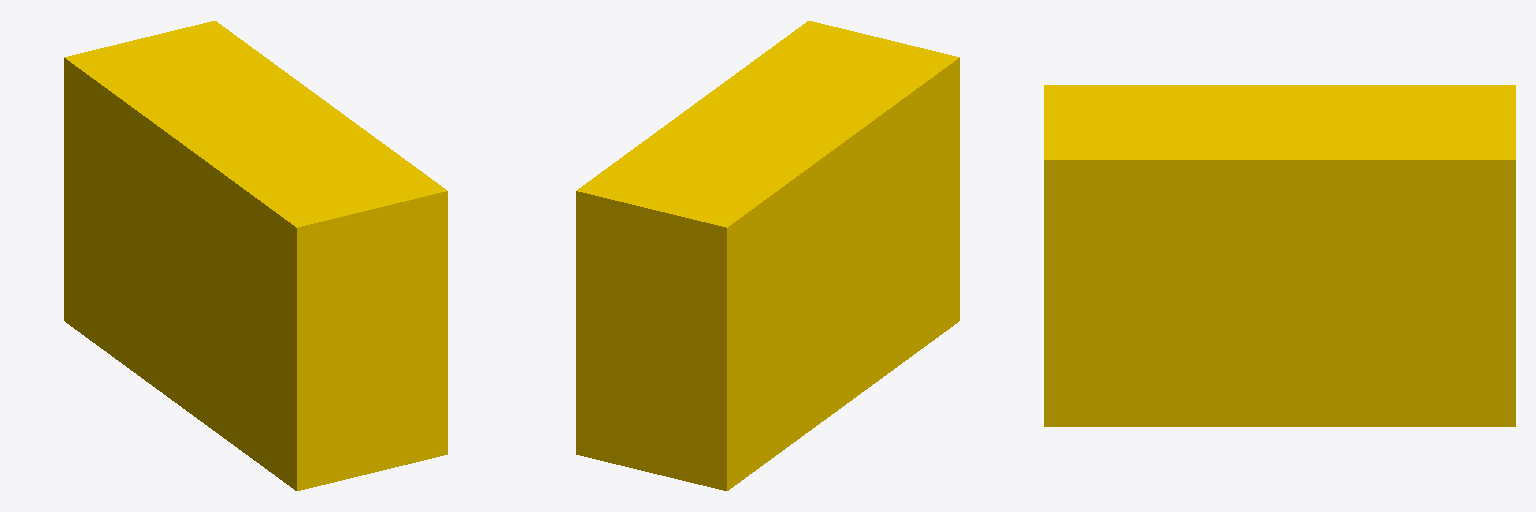
The robot description file, URDF, robot "cube":
<?xml version="1.0"?>
 <robot name="cube">
   <material name="golden">
     <color rgba="1 0.843 0 1"/>
   </material>
   <link name="base_link">
     <visual>
       <geometry>
         <box size="0.16 0.10 0.06"/>
       </geometry>
       <origin xyz="0 0 0.1067185" rpy="1.5707963 0 1.5707963"/>
       <material name="golden"/>
     </visual>
     <inertial>
       <mass value="0"/>
       <inertia ixx="1.0" ixy="0.0" ixz="0.0" iyy="1.0" iyz="0.0" izz="1.0"/>
     </inertial>
   </link>
 </robot>

--- Facts derived from the render (not from the file) ---
Views: 3 orthographic renders of the robot side by side, from view 1: azimuth 30°, elevation 25°; view 2: azimuth 150°, elevation 25°; view 3: azimuth 270°, elevation 25°.
Model cube with 1 links and 0 joints (none), rooted at base_link, posed all joints at 0.
Visible links, largest first — view 1: base_link; view 2: base_link; view 3: base_link.
Boxes of the visible links, x1,y1,x2,y2 form: base_link: (64,21,447,490); base_link: (576,21,959,490); base_link: (1044,85,1515,426).
Size in the robot's own frame: 0.06 by 0.16 by 0.1 metres.
Geometry: primitives only (box / cylinder / sphere), no mesh files.